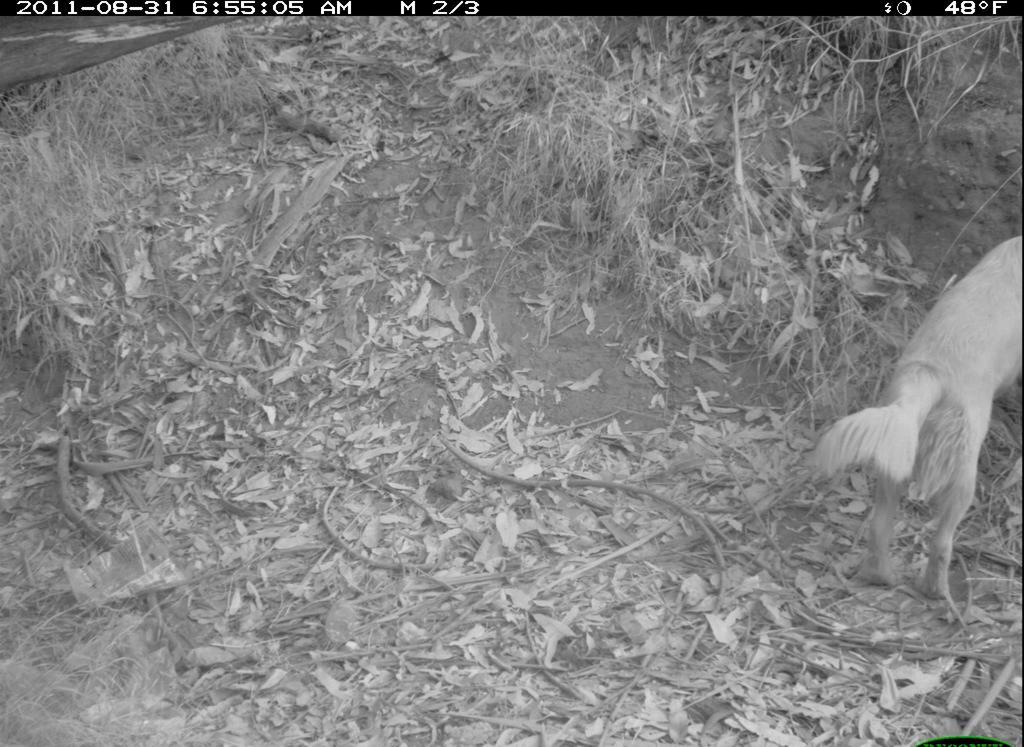dog: (799, 210, 1023, 606)
